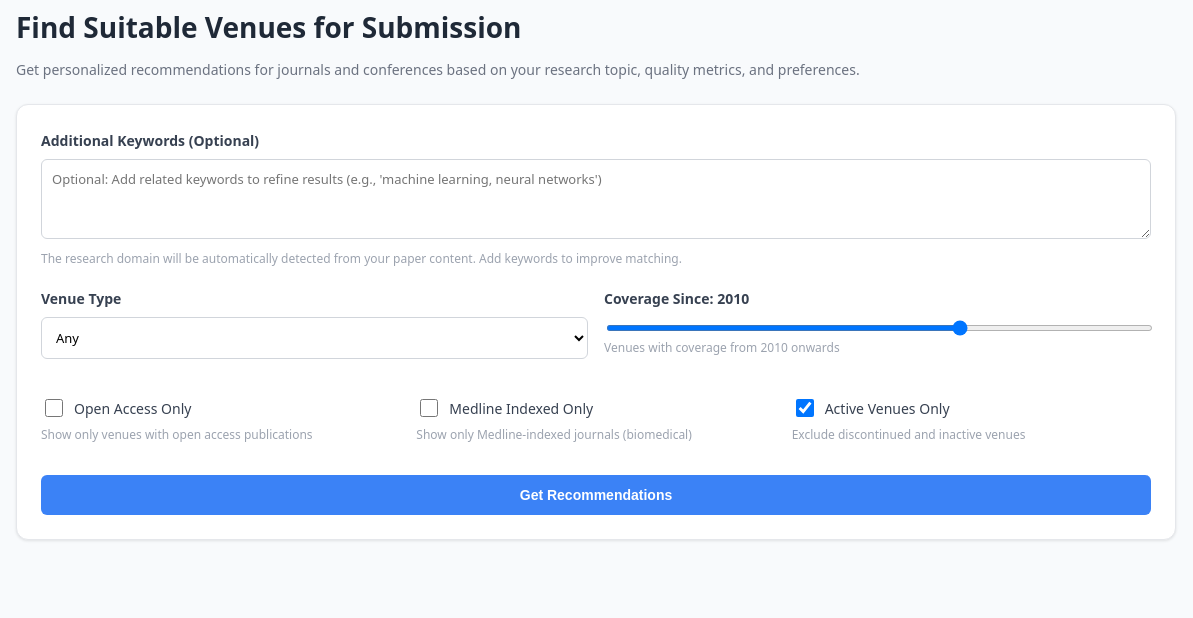
VenueRecommenderEnhanced › shows error when paperText is empty
The width and height of the screenshot is (1193, 618).
What coordinates should you click on to do the following:
click the button "Get Recommendations"
I would click on:
 (596, 495)
Its box is [41, 475, 1151, 515].
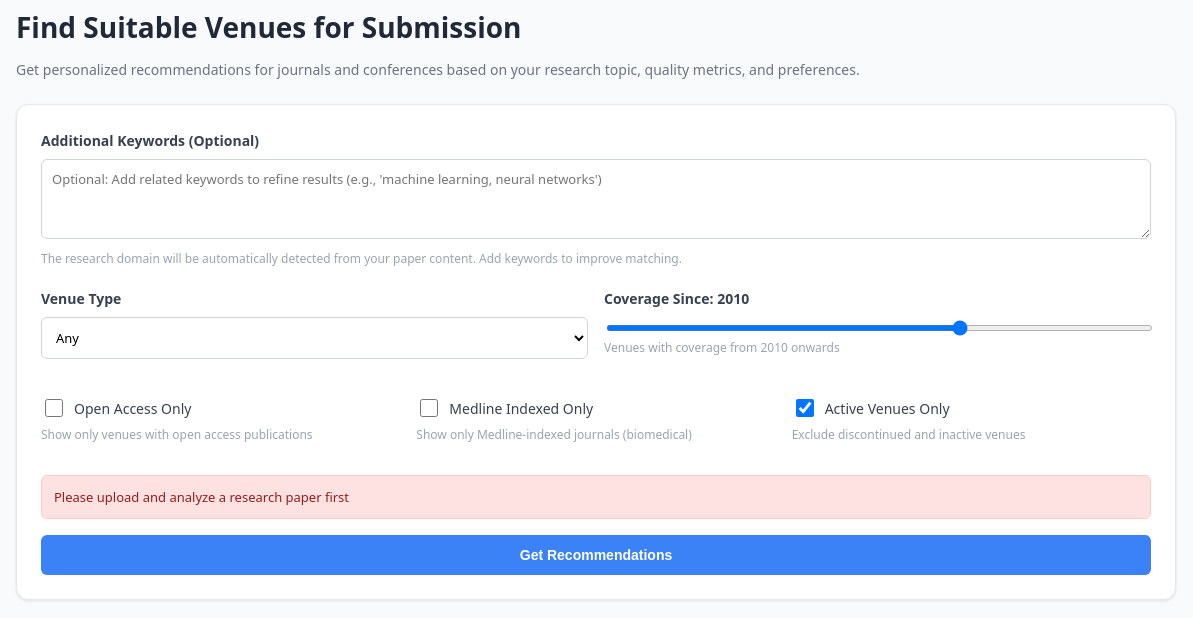
Check: the text "Please upload and analyze a research paper first" is shown, box [41, 475, 1151, 519]
